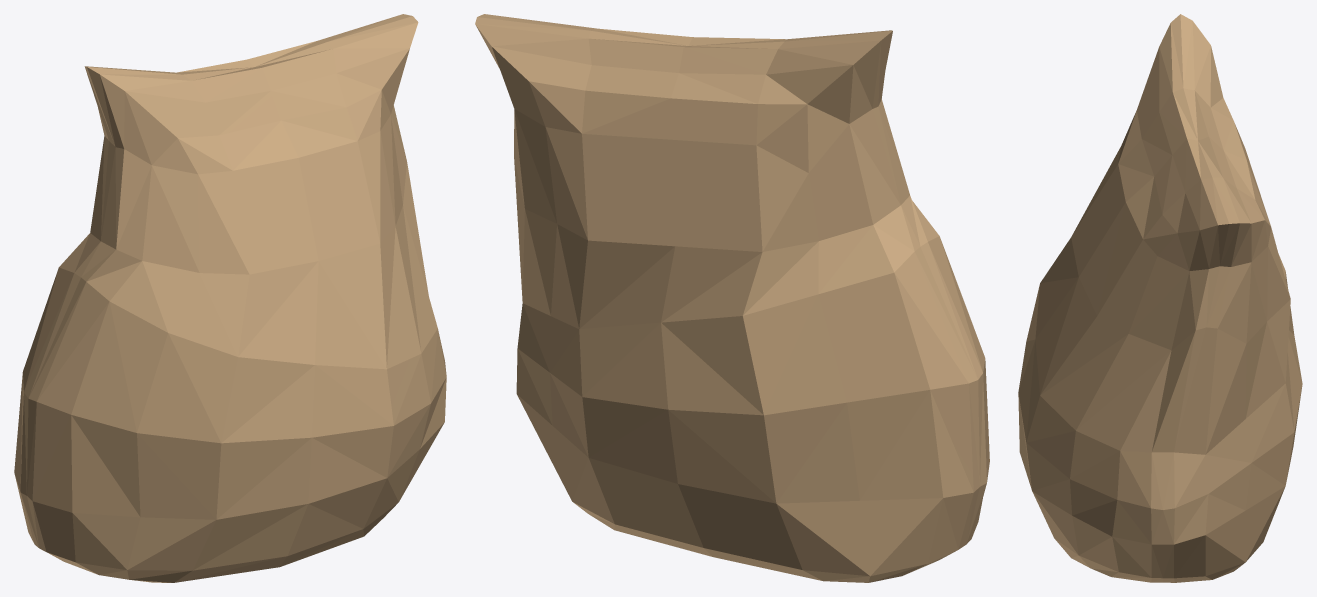
The model's file is Prop_Bag_Grain_03.fbx.
3 views of the same model, side by side, from view 1: azimuth 30°, elevation 25°; view 2: azimuth 150°, elevation 25°; view 3: azimuth 270°, elevation 25° (orthographic). The views are drawn at different scales.
Visible parts, largest first — view 1: Prop_Bag_Grain_03; view 2: Prop_Bag_Grain_03; view 3: Prop_Bag_Grain_03.
Part boxes in pixels (x1,y1,x2,y2): Prop_Bag_Grain_03: (14, 14, 446, 582); Prop_Bag_Grain_03: (475, 14, 989, 582); Prop_Bag_Grain_03: (1018, 14, 1302, 582).
Bounding box in the file's own units: 28.33 × 31.1 × 17.8.
